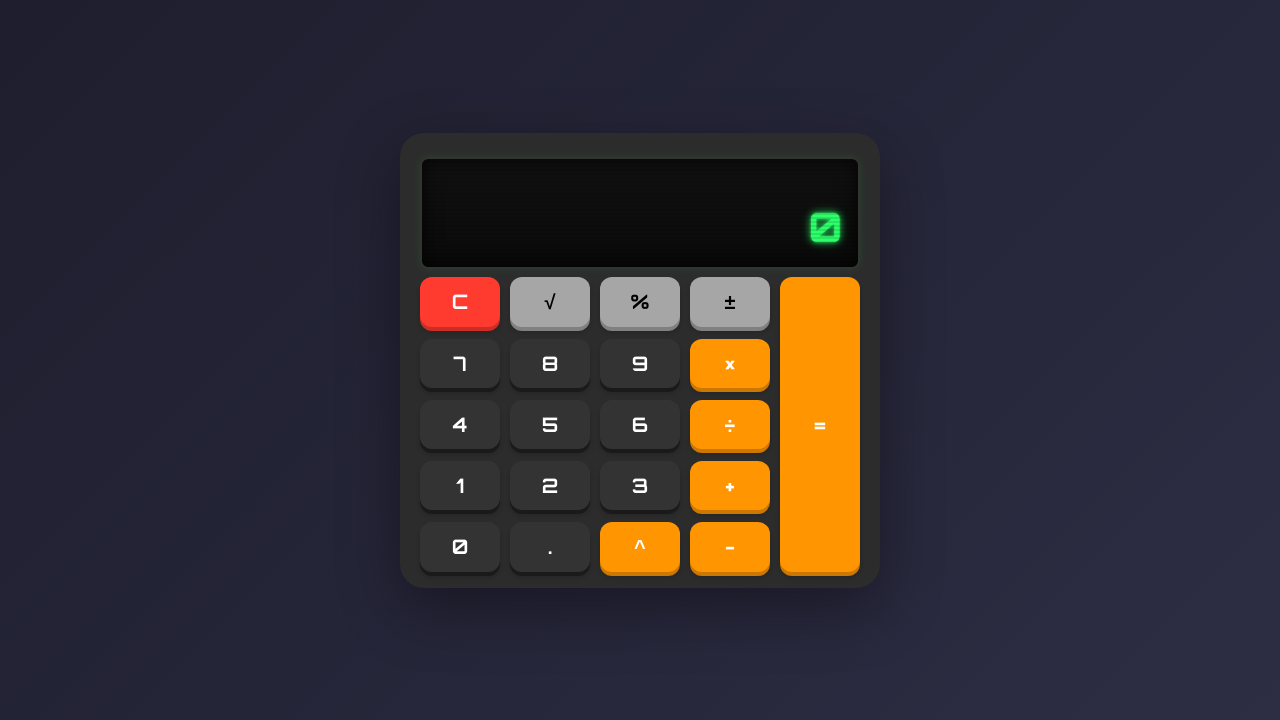
Scenario: Calculator › updates display when digits are clicked
The image size is (1280, 720).
Click the button "1": (460, 485) left=420, top=460, right=500, bottom=510
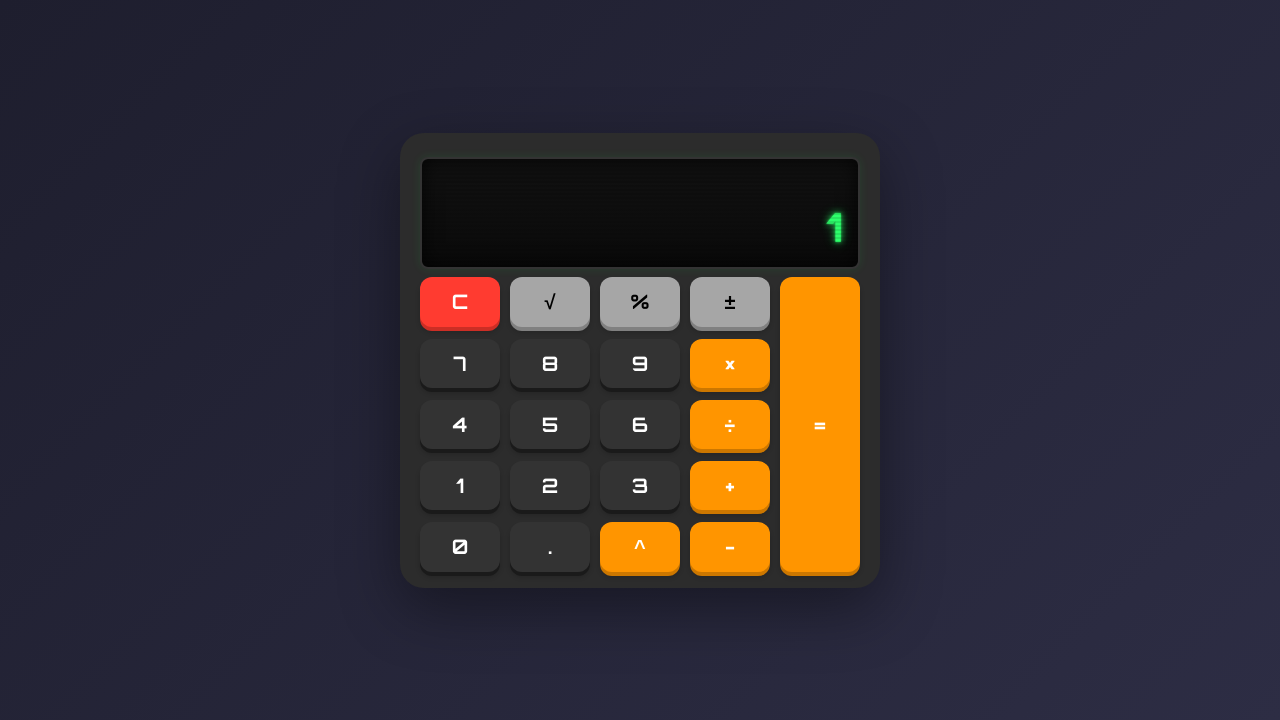
Click the button "2": (550, 485) left=510, top=460, right=590, bottom=510
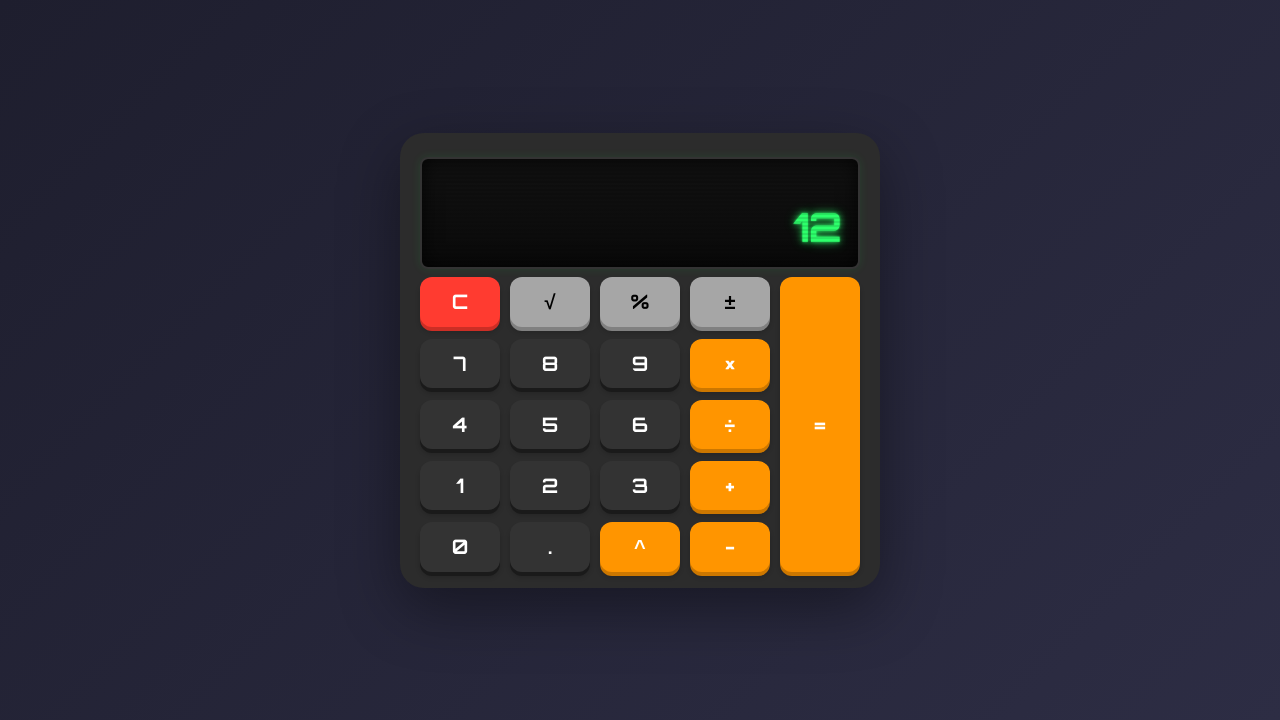
Click the button "3": (640, 485) left=600, top=460, right=680, bottom=510
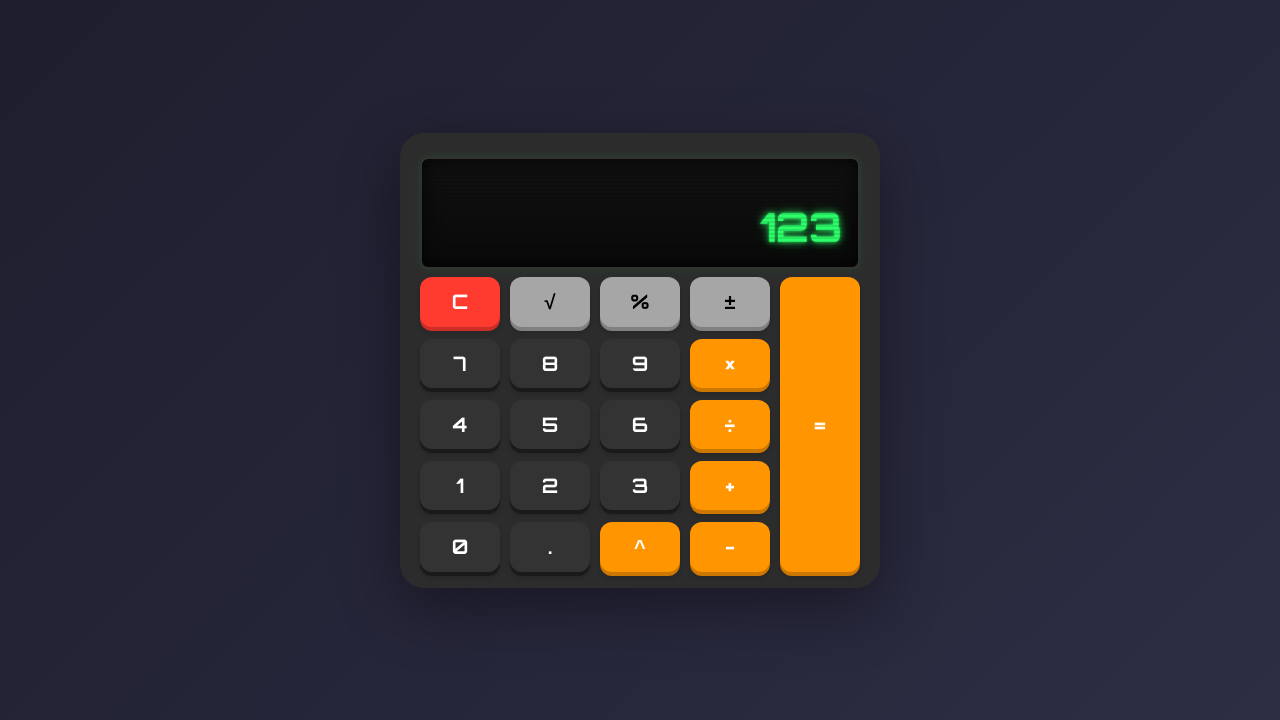
Result: the element named "Calculator display" reads "123" at left=760, top=202, right=842, bottom=252
